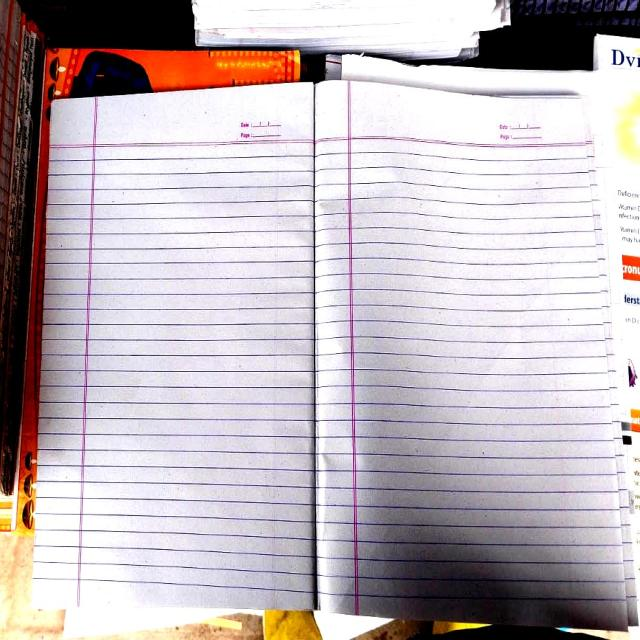notebook: (21, 69, 639, 639)
